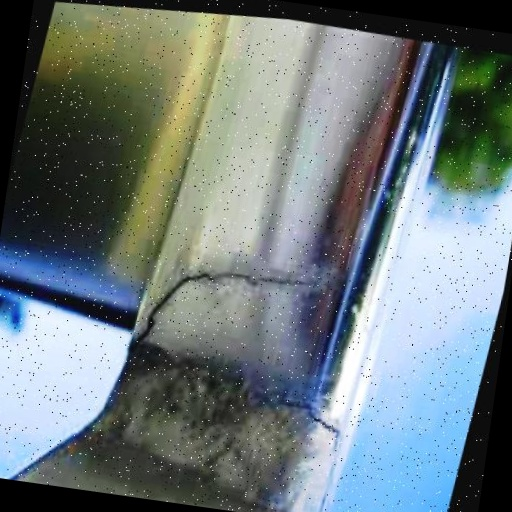crack: (130, 241, 312, 379), (254, 372, 362, 512)
